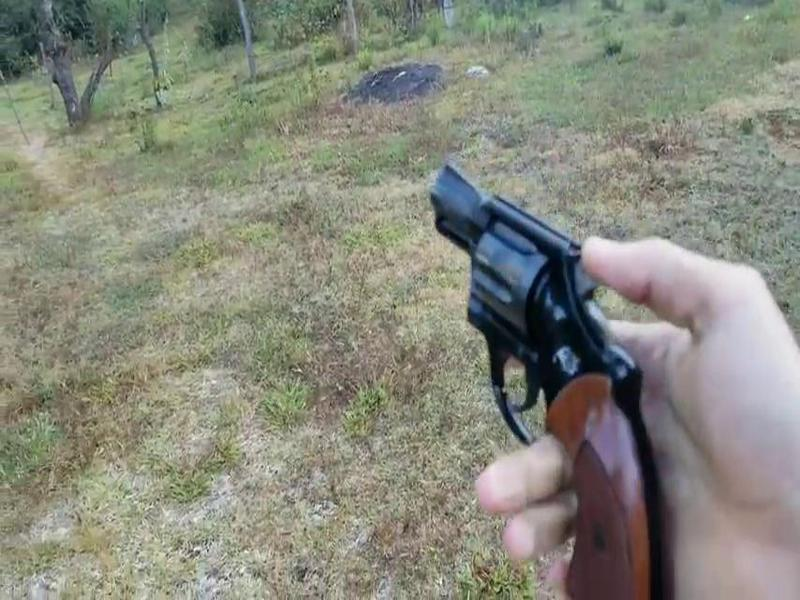Revolver: (416, 169, 695, 545)
